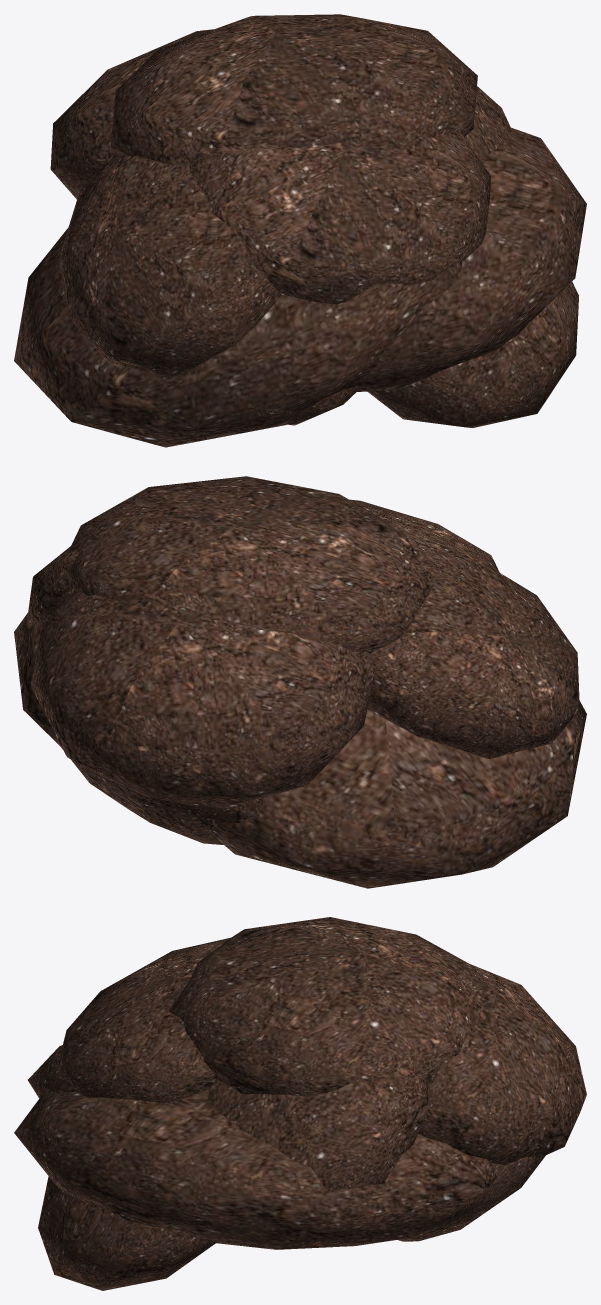
Rendered from dirt.fbx.
3 renders of one model, top to bottom at view 1: azimuth 30°, elevation 25°; view 2: azimuth 150°, elevation 25°; view 3: azimuth 270°, elevation 25°, orthographic. The views are drawn at different scales.
Parts seen in each view (by area): view 1: section3, section1, section2; view 2: section3, section2, section1; view 3: section3, section2, section1.
Part boxes in pixels (left/top/right/bottom): section3: left=58, top=14, right=490, bottom=376; section1: left=14, top=127, right=586, bottom=447; section2: left=50, top=29, right=578, bottom=427; section3: left=67, top=476, right=579, bottom=758; section2: left=26, top=546, right=376, bottom=844; section1: left=14, top=613, right=586, bottom=888; section3: left=57, top=917, right=490, bottom=1102; section2: left=38, top=964, right=586, bottom=1290; section1: left=14, top=1045, right=497, bottom=1249.
Bounding box in the file's own units: 0.6601 × 0.3893 × 0.6874.
